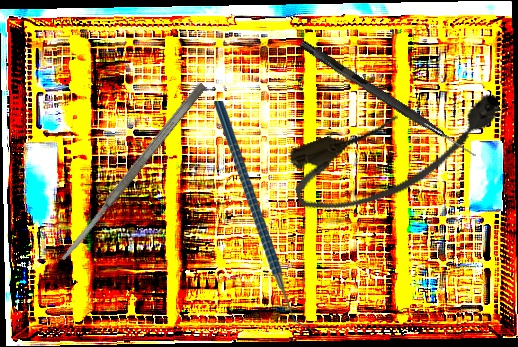Cannula: (282, 80, 516, 225)
Chopper: (214, 101, 314, 331)
Hook Surgical: (297, 39, 480, 160)
Spatula Surgical: (57, 81, 209, 263)
